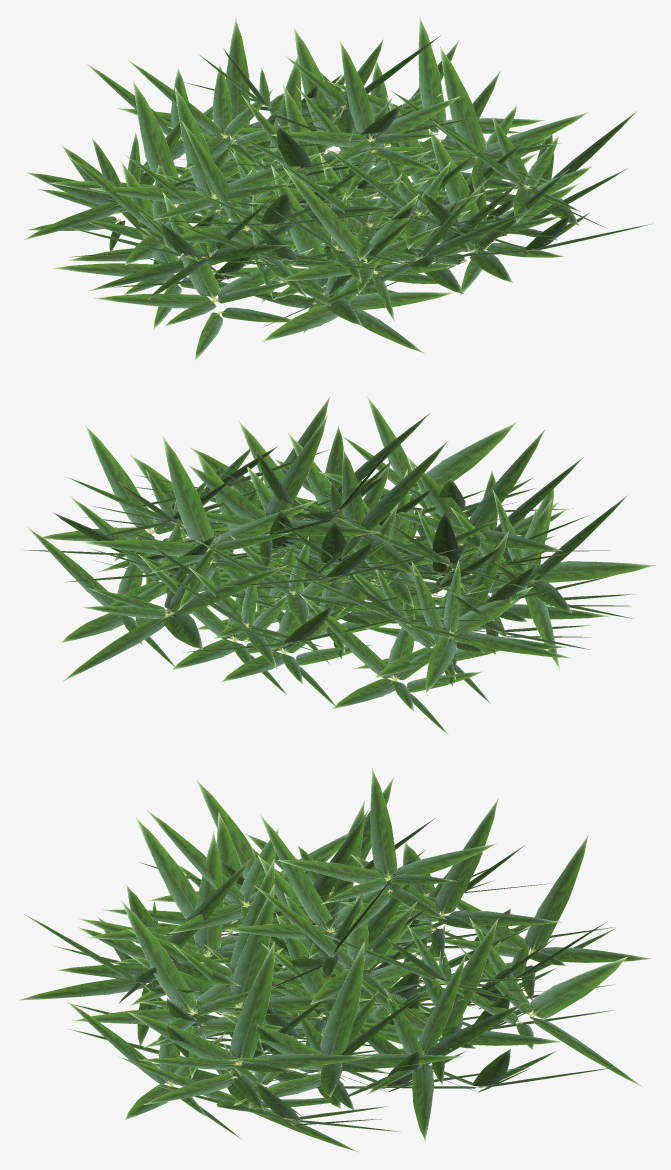
File: kogumasasa_nocolor.fbx
3 views of the same model, one above another, from view 1: azimuth 30°, elevation 25°; view 2: azimuth 150°, elevation 25°; view 3: azimuth 270°, elevation 25° (orthographic). The views are drawn at different scales.
Parts seen in each view (by area): view 1: CU053.041, CU053.064, CU053.048, CU053.068, CU053.056, CU053.043, CU053.038, CU053.049, CU053.052, CU053.014, CU053.016, CU053.024 (+43 smaller); view 2: CU053.065, CU053.022, CU053.014, CU053.010, CU053.066, CU053.013, CU053.069, CU053.067, CU053.050, CU053.021, CU053.005, CU053.019 (+46 smaller); view 3: CU053.052, CU053.070, CU053.020, CU053.024, CU053.018, CU053.022, CU053.006, CU053.038, CU053.060, CU053.069, CU053.054, CU053.068 (+34 smaller).
Boxes of the visible parts, x1,y1,x2,y2 form: CU053.041: (94,191,313,360); CU053.064: (270,41,460,199); CU053.048: (89,86,323,256); CU053.068: (277,167,458,321); CU053.056: (368,46,589,193); CU053.043: (262,247,454,353); CU053.038: (128,60,291,186); CU053.049: (402,127,579,295); CU053.052: (432,117,607,228); CU053.014: (23,131,193,248); CU053.016: (48,80,276,239); CU053.024: (326,16,545,157); CU053.065: (82,436,316,609); CU053.022: (63,535,287,680); CU053.014: (373,560,571,693); CU053.010: (450,478,655,669); CU053.066: (176,415,381,570); CU053.013: (299,594,483,734); CU053.069: (265,441,447,582); CU053.067: (390,430,562,576); CU053.050: (318,396,516,520); CU053.021: (27,527,210,666); CU053.005: (188,566,371,705); CU053.019: (36,424,221,583); CU053.052: (127,941,371,1110); CU053.070: (277,768,496,934); CU053.020: (217,941,462,1110); CU053.024: (348,955,525,1141); CU053.018: (72,900,283,1078); CU053.022: (436,917,642,1087); CU053.006: (430,835,651,1000); CU053.038: (340,798,561,964); CU053.060: (127,884,372,1053); CU053.069: (224,814,419,975); CU053.054: (361,918,561,1084); CU053.068: (57,857,252,1003).
Size of the model in its own units: 35.21 by 12.87 by 32.84.
1 material, 1 textured.
